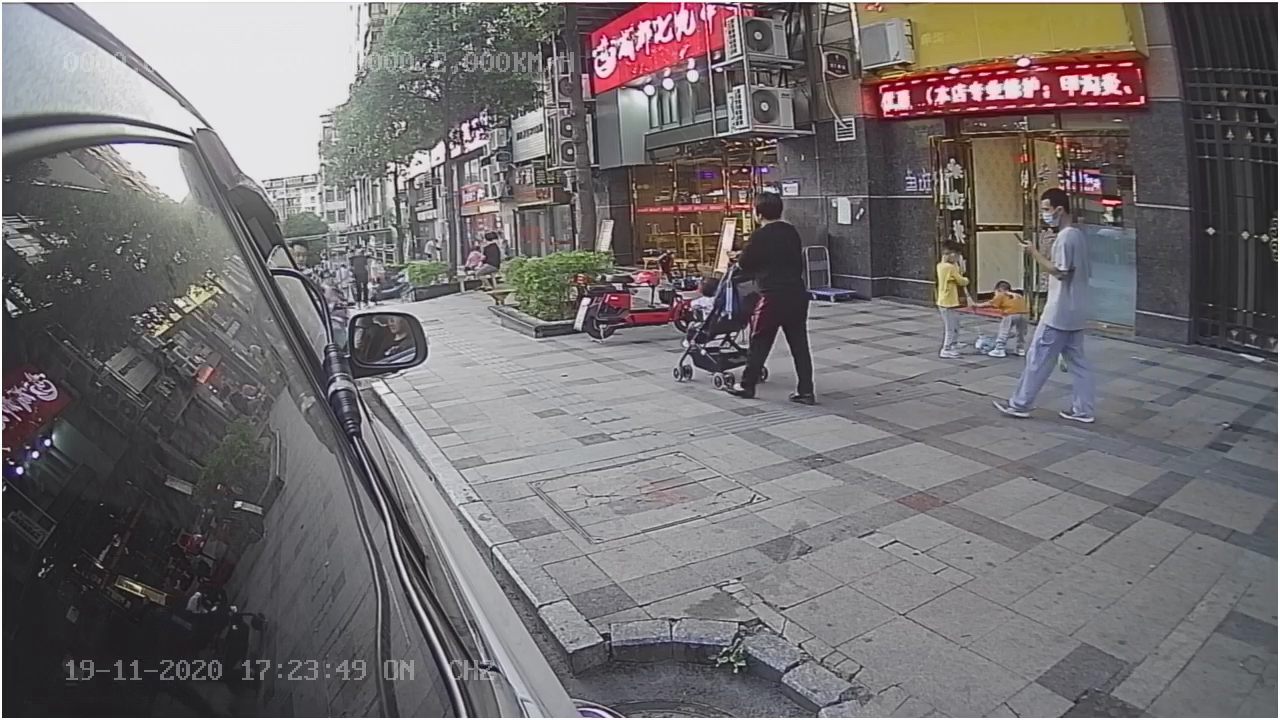person: (725, 188, 820, 413), (1017, 189, 1096, 425), (931, 236, 973, 359), (972, 278, 1030, 354)
